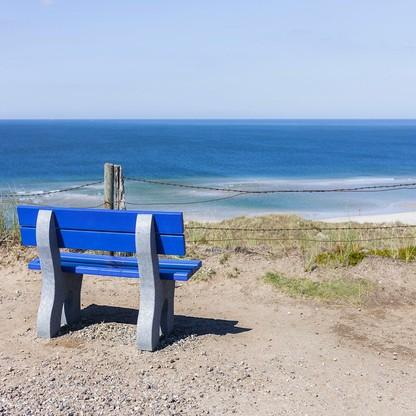obstacle: (13, 200, 207, 358)
